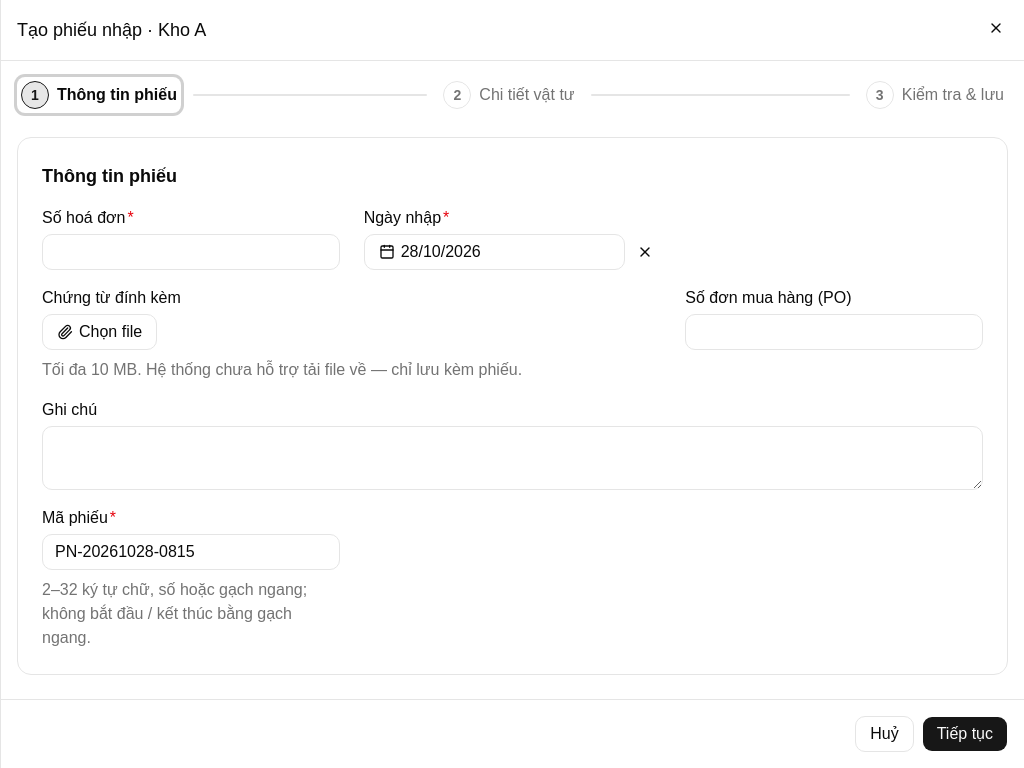
Test case: ImportFormSheet › tạo: đã nhập mà bấm Huỷ ở bước ① → hỏi "Bỏ thay đổi chưa lưu?"
Step 1. Type "HD-9" into the field labelled "Số hoá đơn *" → (191, 252), box [42,234,340,270]
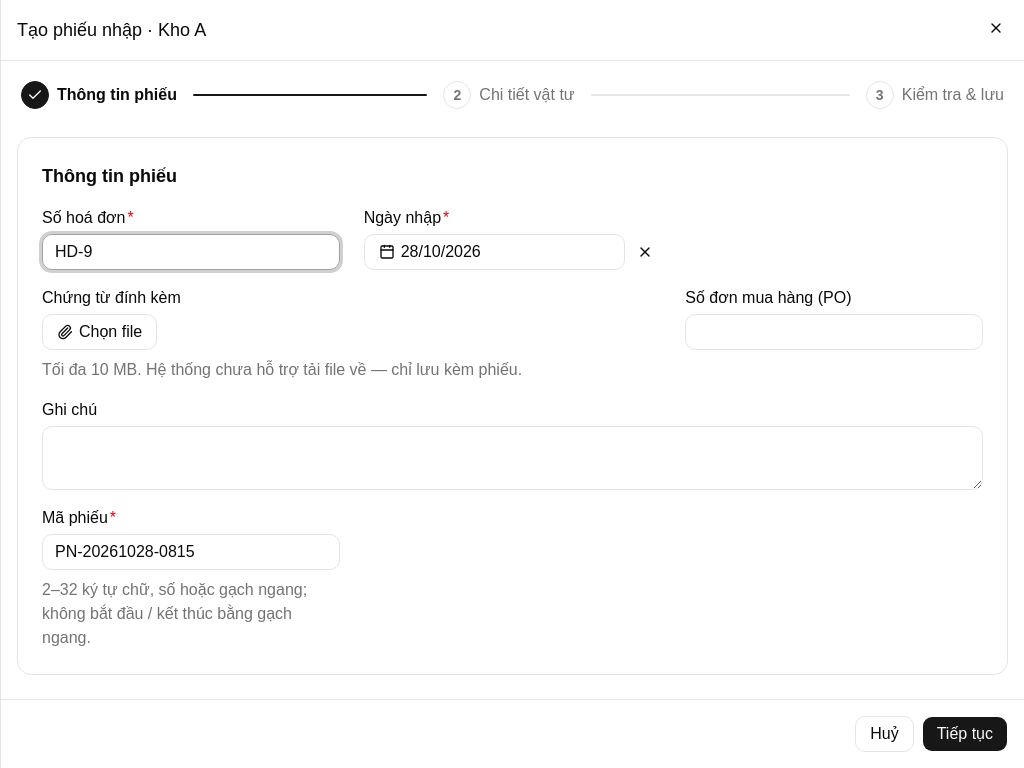
Step 2. Click the button "Huỷ" → click(884, 734), box [855,716,914,752]
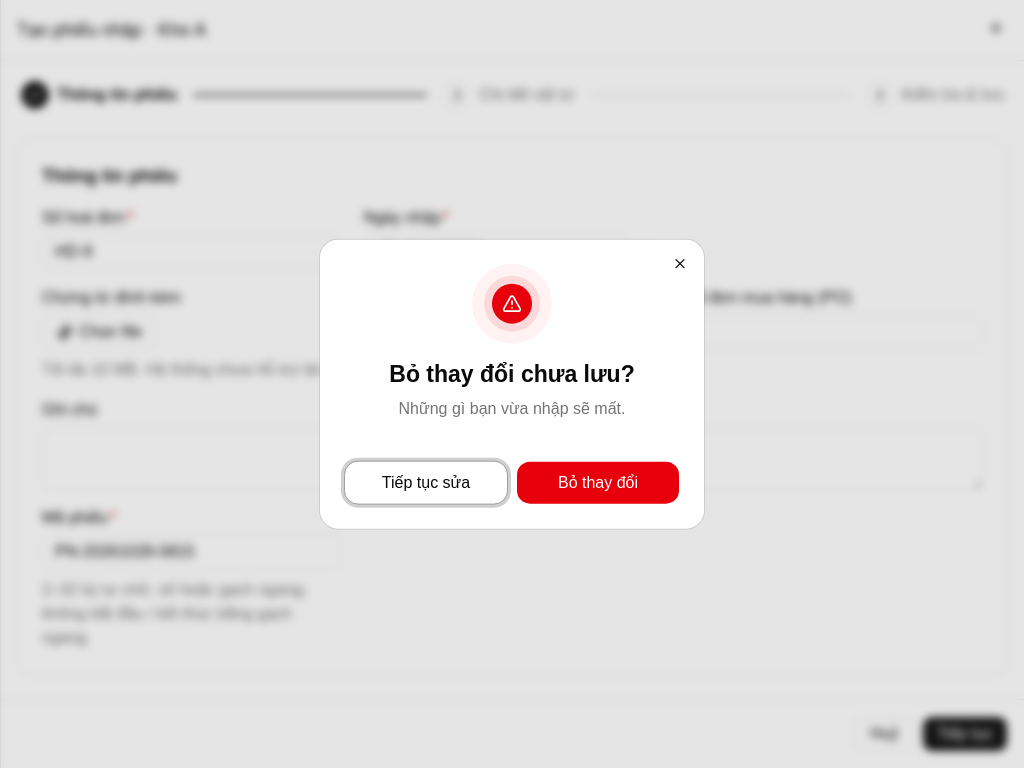
expect the dialog that starts with "Bỏ thay đổi chưa lưu?" is shown: met, box [389,361,635,387]
